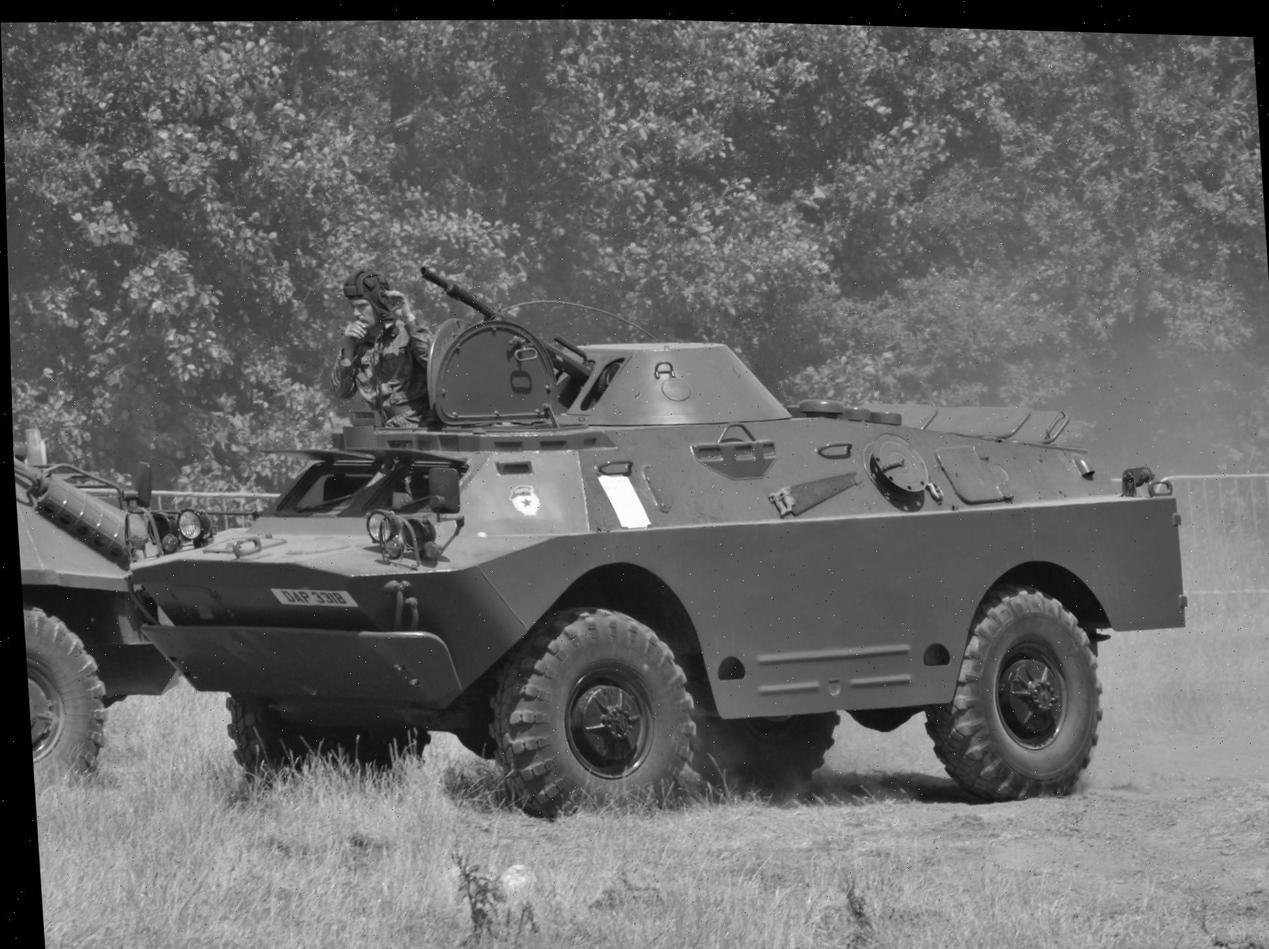tank: (93, 216, 1225, 862)
